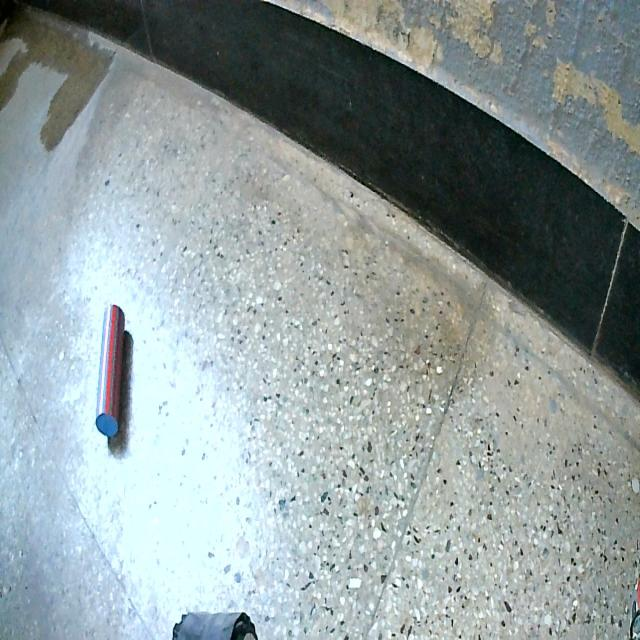cylinder: (87, 296, 150, 439)
